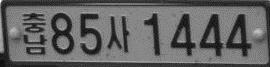1: (142, 12, 166, 56)
4: (170, 13, 196, 56), (226, 13, 251, 57), (199, 13, 224, 56)
5: (79, 12, 102, 55)
8: (51, 12, 75, 54)
사: (106, 15, 130, 53)
충남_V: (22, 11, 47, 55)
